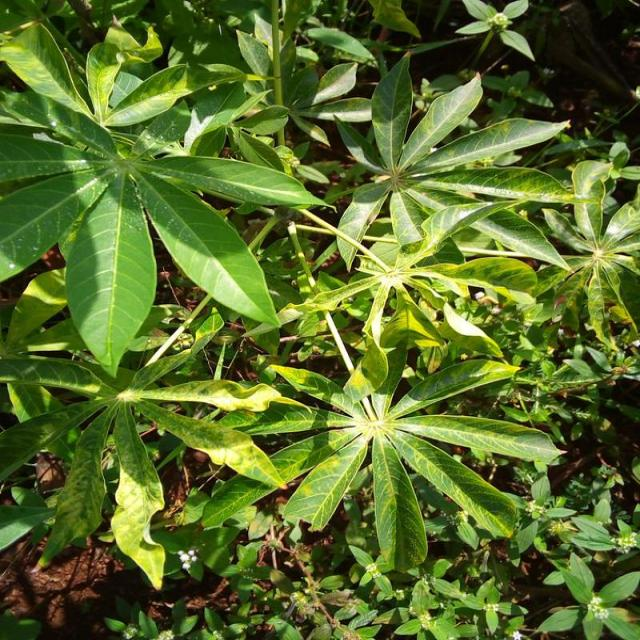cassava leaf: (0, 18, 326, 377), (62, 168, 157, 378)
